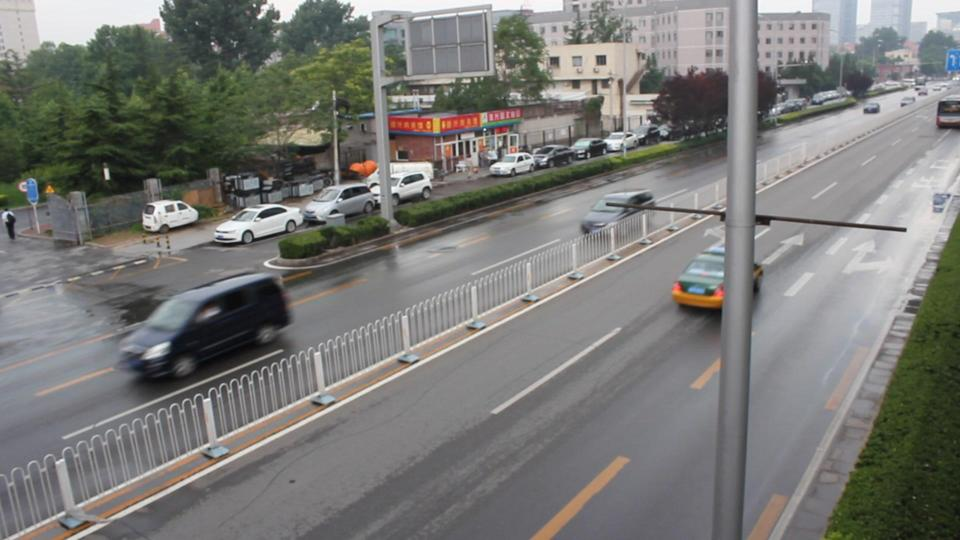bus: (935, 95, 960, 128)
car: (115, 271, 294, 381), (671, 244, 727, 311), (212, 204, 305, 244), (580, 189, 655, 235), (300, 183, 379, 224), (142, 199, 199, 233), (489, 153, 538, 177), (533, 145, 578, 169), (571, 138, 609, 159), (604, 132, 634, 152), (812, 90, 843, 105), (863, 102, 881, 114), (898, 97, 915, 107), (916, 87, 929, 96)
person: (1, 209, 18, 241)
sign: (22, 178, 42, 209), (945, 49, 960, 68)
truck: (363, 161, 435, 205)
